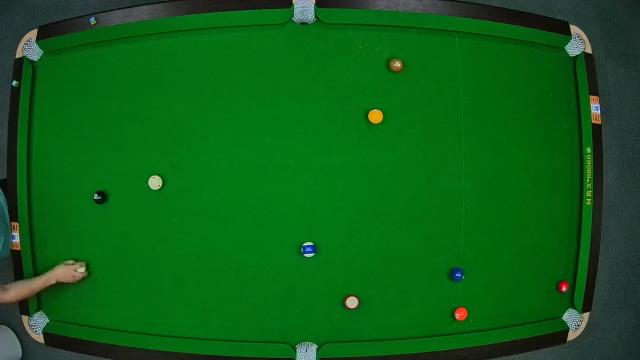bag1: (19, 36, 45, 64)
bag2: (292, 0, 316, 26)
bag3: (563, 30, 589, 57)
bag4: (25, 309, 51, 339)
bag5: (294, 340, 318, 360)
bag6: (560, 306, 586, 334)
ball0: (147, 175, 163, 191)
ball1: (366, 107, 384, 125)
ball10: (300, 241, 318, 258)
ball11: (344, 294, 360, 312)
ball2: (449, 266, 465, 284)
ball3: (556, 280, 570, 296)
ball5: (454, 306, 468, 324)
ball7: (388, 58, 404, 74)
ball8: (94, 190, 108, 206)
